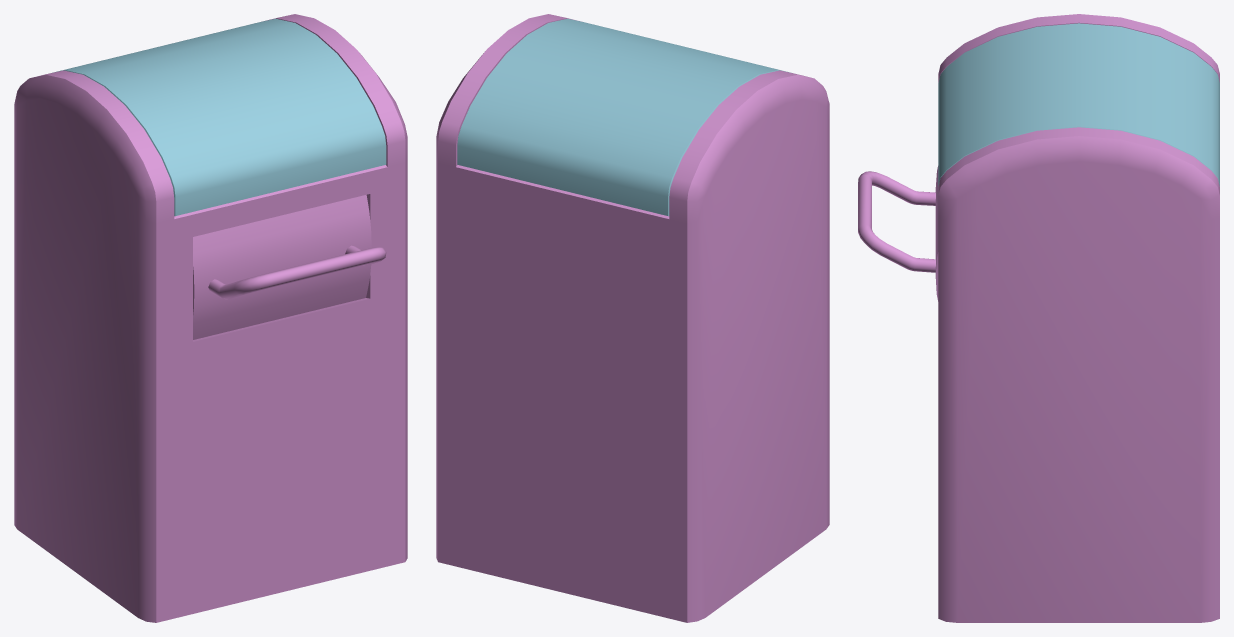
Rendered from Litter_Bin_01a_snaps020.FBX.
3 renders of one model, left to right at view 1: azimuth 30°, elevation 25°; view 2: azimuth 150°, elevation 25°; view 3: azimuth 270°, elevation 25°, orthographic.
Visible parts, largest first — view 1: Litter_Bin_01a_snaps020_LOD0; view 2: Litter_Bin_01a_snaps020_LOD0; view 3: Litter_Bin_01a_snaps020_LOD0.
Boxes of the visible parts, left/top/right/bottom form: Litter_Bin_01a_snaps020_LOD0: left=14, top=14, right=407, bottom=622; Litter_Bin_01a_snaps020_LOD0: left=436, top=14, right=829, bottom=622; Litter_Bin_01a_snaps020_LOD0: left=858, top=14, right=1219, bottom=622.
Size of what is drawn, in the model's own units: 0.6199 by 1.07 by 0.7269.
